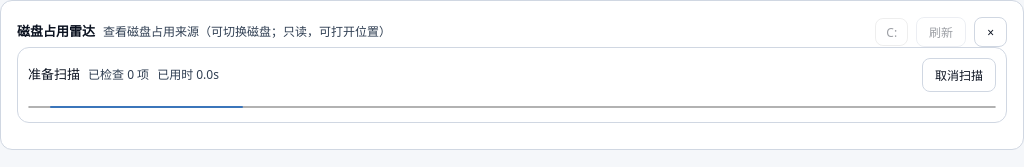
Test case: rejects a late successful disk result after cancellation
Click the button "取消扫描". click: click(959, 75)
box: [922,58,996,92]
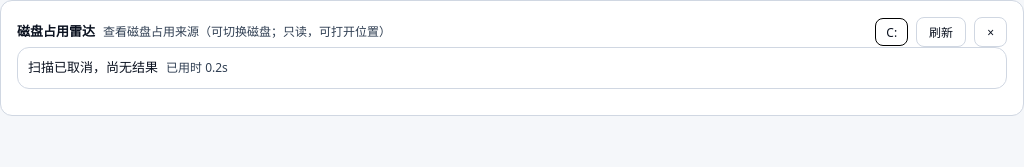
Now the message reads "扫描已取消，尚无结果", box [28,58,158,76]
